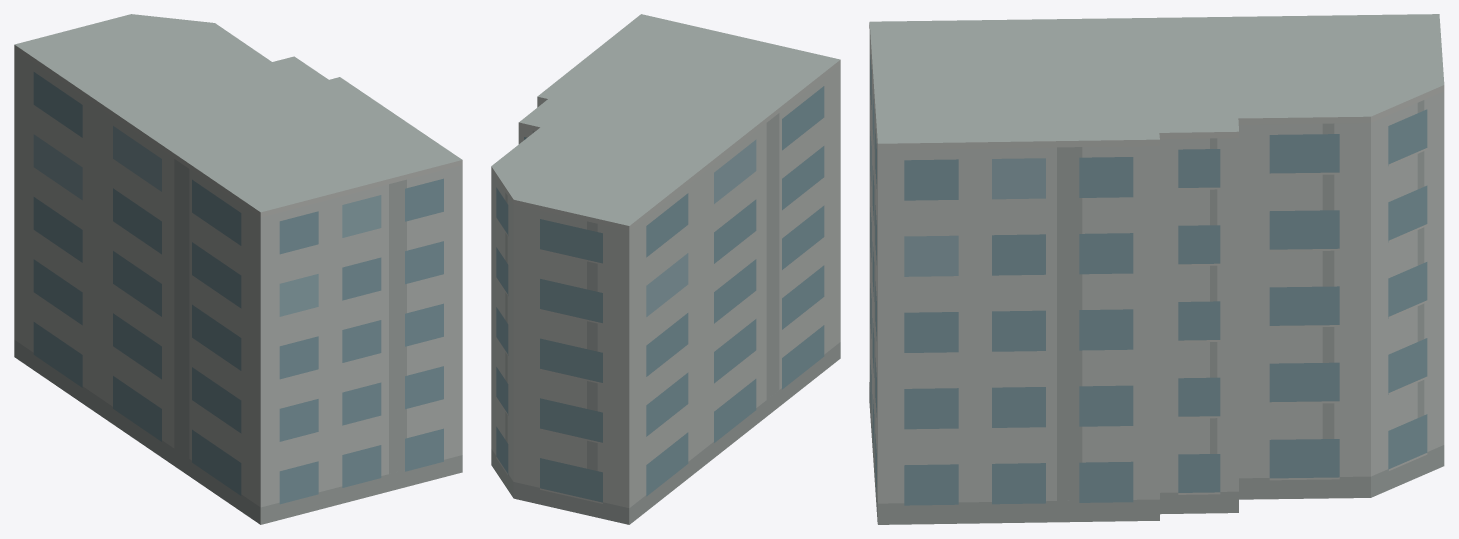
File: survey-upis-32808535.glb
The picture shows the model from 3 angles, left to right: view 1: azimuth 30°, elevation 25°; view 2: azimuth 150°, elevation 25°; view 3: azimuth 270°, elevation 25°; orthographic projection. The views are drawn at different scales.
Visible parts, largest first — view 1: survey-upis-32808535.tmp; view 2: survey-upis-32808535.tmp; view 3: survey-upis-32808535.tmp.
Boxes of the visible parts, x1,y1,x2,y2 form: survey-upis-32808535.tmp: [14, 14, 462, 524]; survey-upis-32808535.tmp: [491, 14, 840, 524]; survey-upis-32808535.tmp: [869, 14, 1444, 524].
Size of the model in its own units: 10.78 by 14.75 by 20.17.
